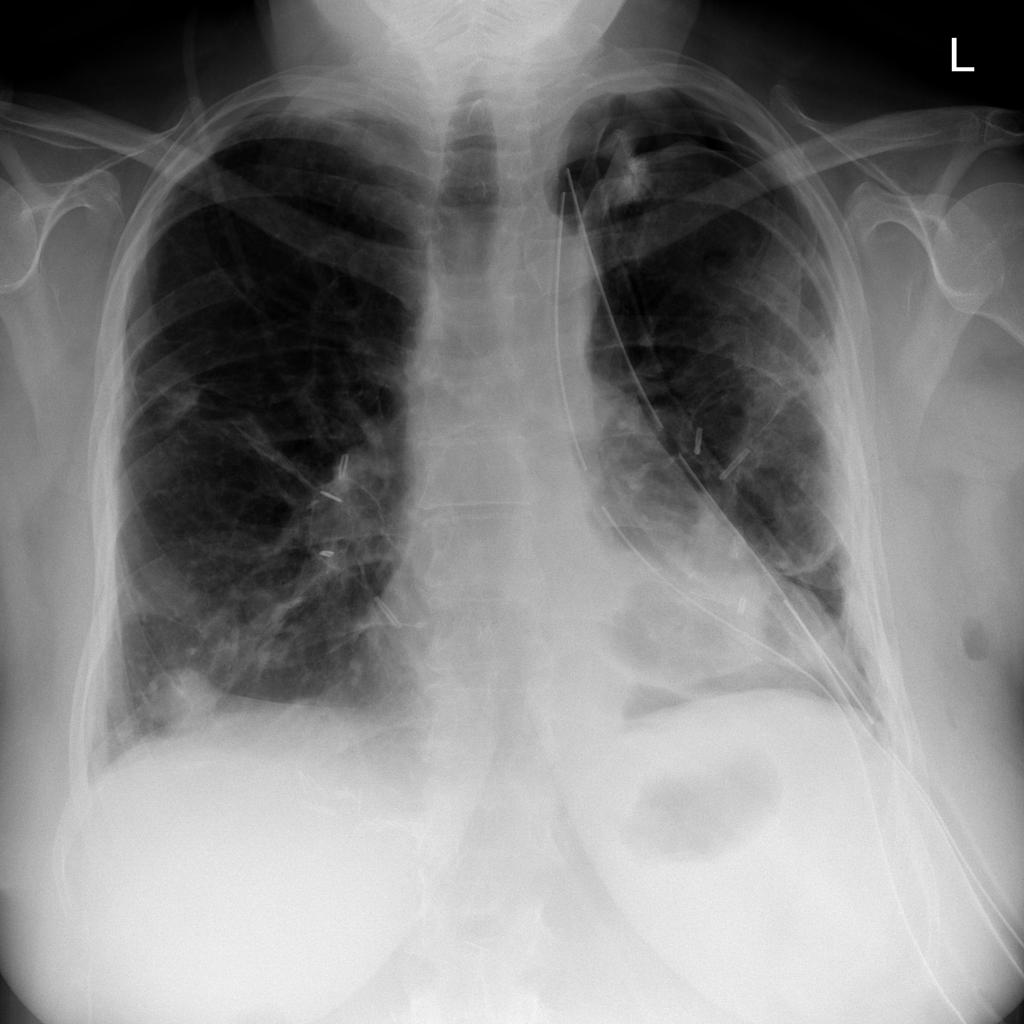nodule: (128, 652, 241, 752)
